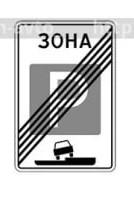road_sign: (15, 15, 118, 172)
